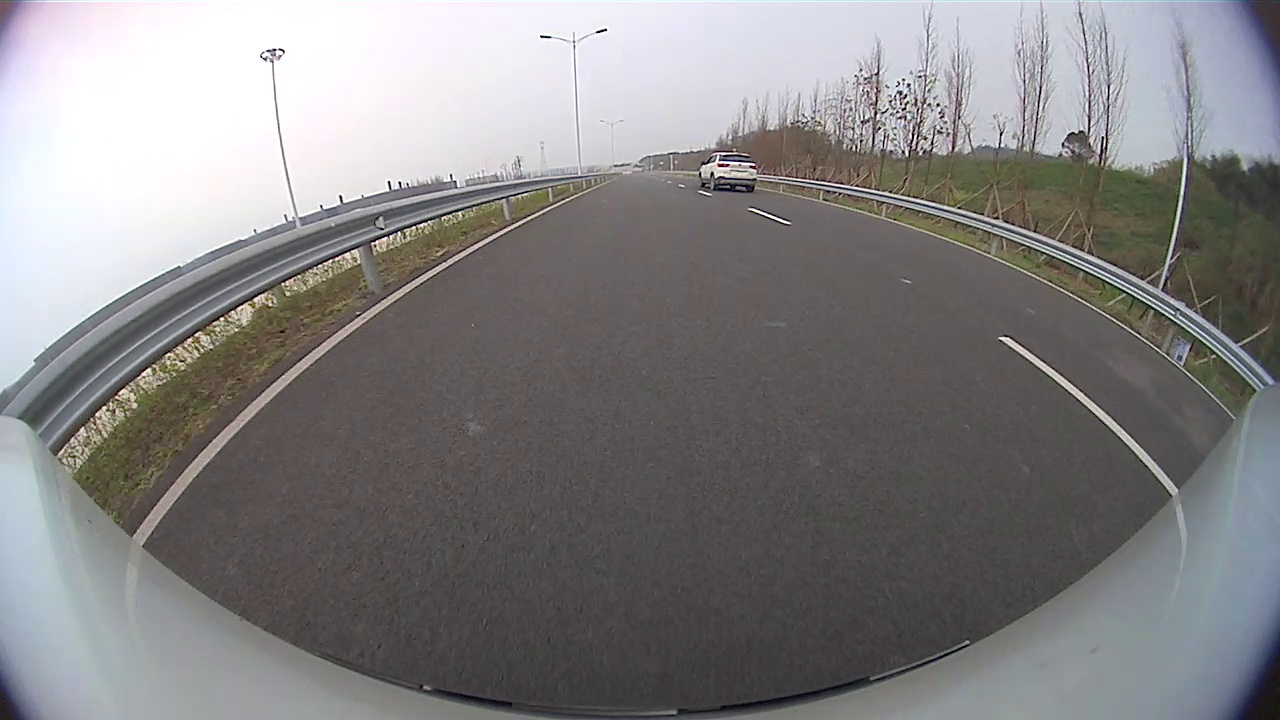car: (698, 151, 757, 192)
rear: (708, 175, 716, 192)
